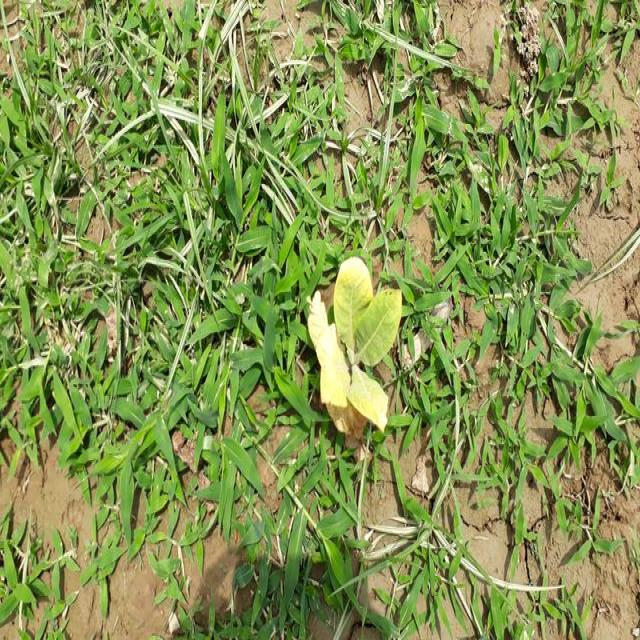crop: (309, 249, 406, 448)
